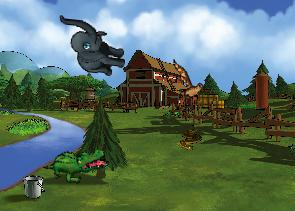crocodile: (42, 133, 111, 195)
eagle: (160, 59, 217, 109)
elephant: (54, 14, 129, 77)
